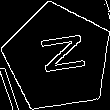N_W: (30, 34, 86, 82)
